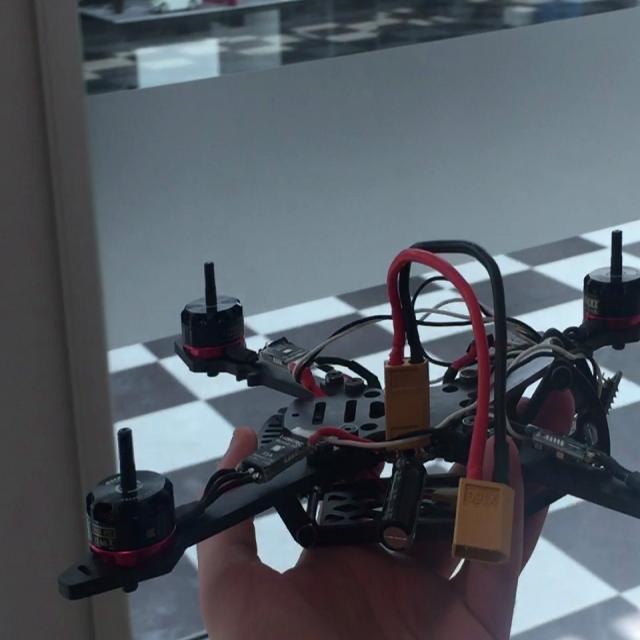drone: (82, 215, 640, 615)
